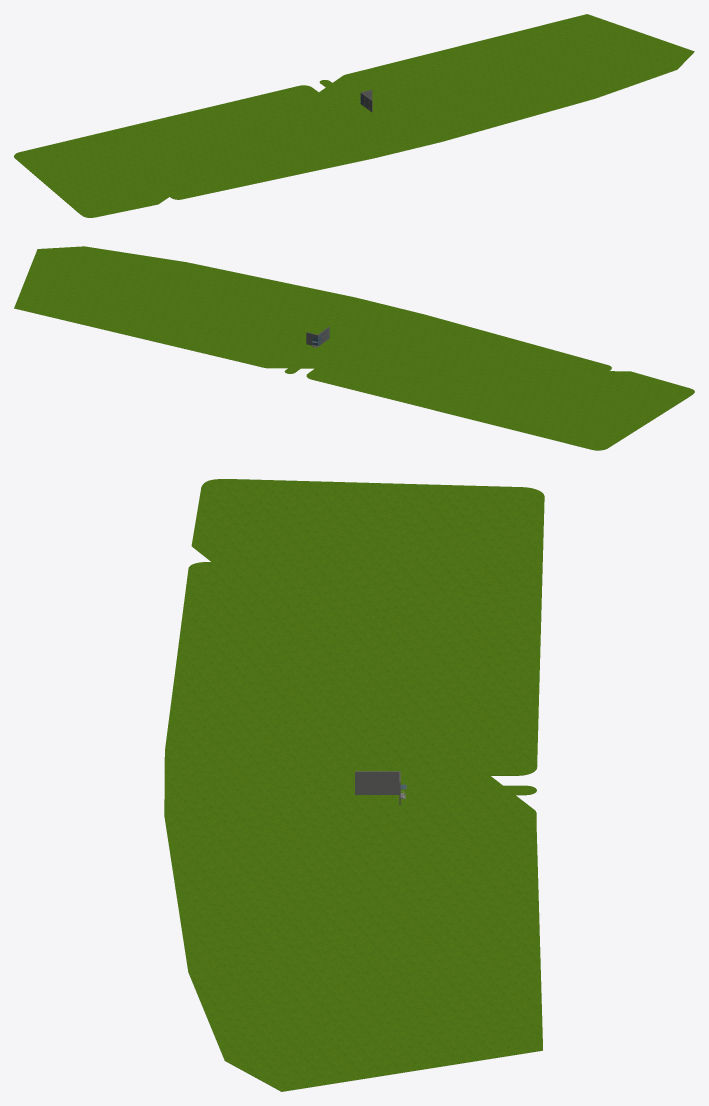
3 views of the same model, one above another, from view 1: azimuth 30°, elevation 25°; view 2: azimuth 150°, elevation 25°; view 3: azimuth 270°, elevation 25° (orthographic). The views are drawn at different scales.
Parts seen in each view (by area): view 1: 图形036; view 2: 图形036; view 3: 图形036, 对象026.
Boxes of the visible parts, x1,y1,x2,y2 form: 图形036: [14, 14, 694, 217]; 图形036: [14, 246, 694, 450]; 图形036: [164, 479, 544, 1091]; 对象026: [355, 771, 400, 805].
Size of the model in its own units: 729 by 13 by 191.
Materials: 6 (6 with a texture image).
